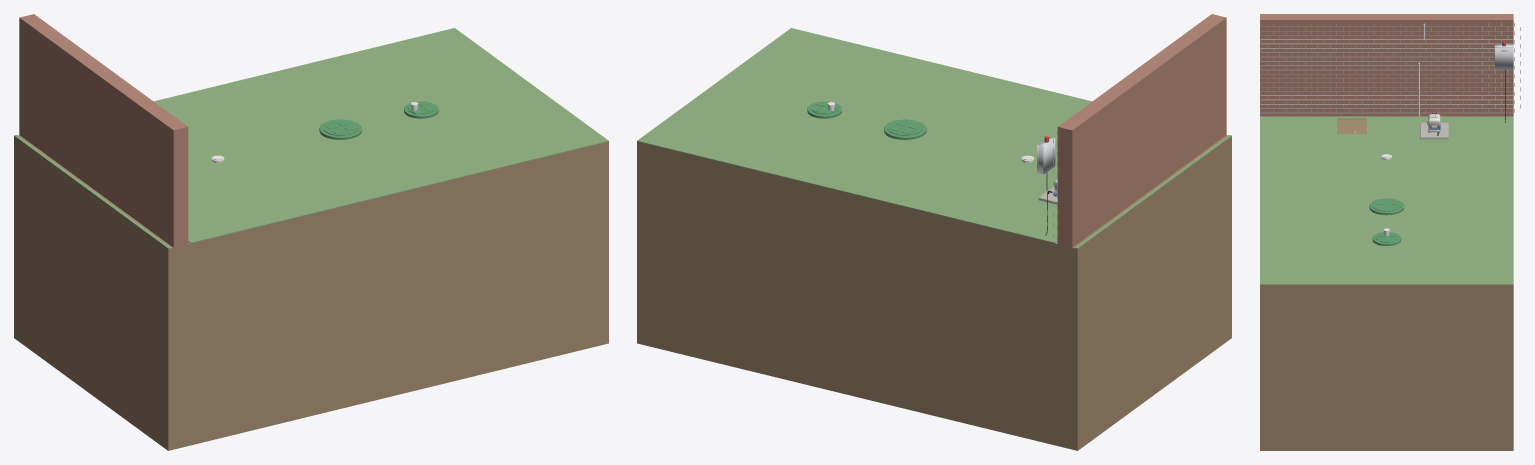
The model's file is septic_aquasafe.glb.
3 views of the same model, side by side, from view 1: azimuth 30°, elevation 25°; view 2: azimuth 150°, elevation 25°; view 3: azimuth 270°, elevation 25° (orthographic). The views are drawn at different scales.
Parts seen in each view (by area): view 1: soil, grass, house_wall, grass_section, soil_section, lid_center; view 2: soil, grass, house_wall, grass_section, soil_section, lid_center, control_panel; view 3: soil, grass, house_wall, grass_section, soil_section, lid_center, panel_door, compressor_pad, lid_chlorinator.
Part boxes in pixels (x1,y1,x2,y2): soil: [14, 135, 608, 450]; grass: [14, 28, 608, 248]; house_wall: [19, 14, 188, 248]; grass_section: [14, 28, 530, 190]; soil_section: [14, 135, 94, 393]; lid_center: [319, 119, 361, 139]; soil: [637, 135, 1231, 450]; grass: [637, 28, 1231, 248]; house_wall: [1053, 14, 1226, 248]; grass_section: [638, 85, 1153, 247]; soil_section: [1055, 191, 1150, 448]; lid_center: [884, 119, 926, 139]; control_panel: [1038, 136, 1055, 174]; soil: [1260, 116, 1513, 450]; grass: [1260, 116, 1513, 284]; house_wall: [1260, 14, 1520, 116]; grass_section: [1387, 116, 1513, 284]; soil_section: [1387, 116, 1513, 450]; lid_center: [1369, 198, 1404, 215]; panel_door: [1494, 47, 1513, 69]; compressor_pad: [1420, 122, 1448, 139]; lid_chlorinator: [1372, 232, 1401, 245].
Bounding box in the file's own units: 6.6 × 4.57 × 4.11.
